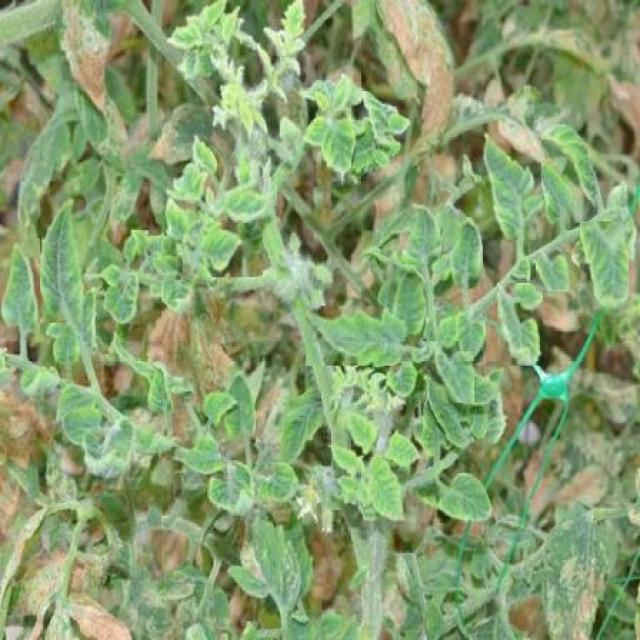Yellow Leaf Curl Virus: (482, 134, 542, 240), (306, 305, 406, 366), (40, 194, 86, 323), (580, 221, 629, 313), (0, 239, 40, 337), (183, 230, 263, 277), (498, 284, 543, 366), (436, 468, 494, 523), (207, 456, 256, 518), (402, 198, 442, 271), (388, 265, 426, 339), (214, 178, 277, 222), (363, 458, 406, 522), (432, 340, 475, 403), (449, 218, 484, 288), (223, 371, 256, 445), (340, 412, 394, 457), (322, 108, 352, 189), (452, 309, 487, 364), (536, 252, 571, 292)
